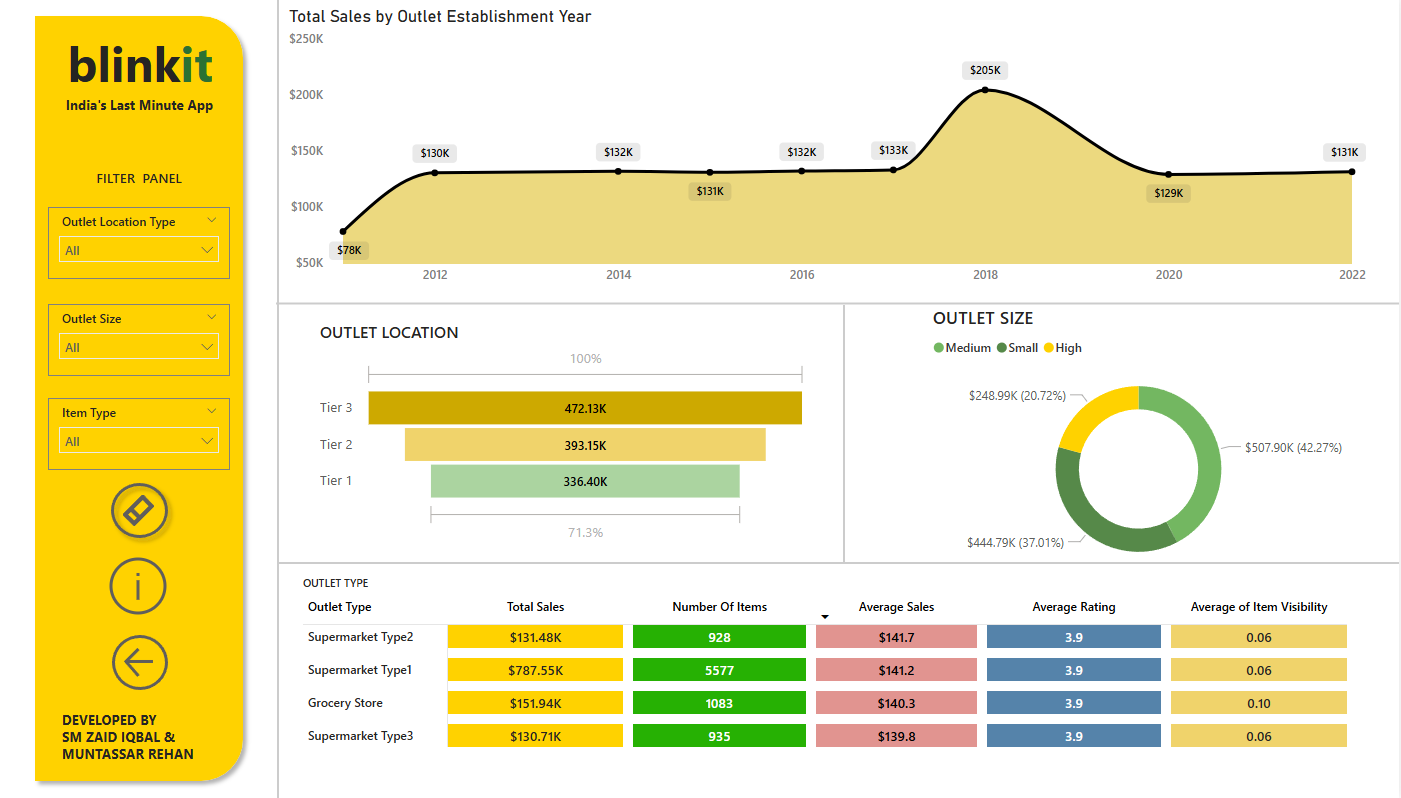

This screenshot's page, from the dashboard's own definition file:
{"tool":"powerbi","page":{"name":"Blinkit Outlet","canvas":[1400,800],"ordinal":1},"visuals":[{"type":"lineChart","fields":{"Category":["BlinkIT Grocery Data.Outlet Establishment Year"],"Y":["BlinkIT Grocery Data.Total Sales"]},"box":[285,8,1087,287],"z":0},{"type":"shape","box":[27,9,226,783],"z":1000},{"type":"textbox","box":[2,27,278,85],"z":2000},{"type":"textbox","box":[40,93,201,37],"z":3000},{"type":"donutChart","title":"OUTLET SIZE","fields":{"Y":["BlinkIT Grocery Data.Total Sales"],"Category":["BlinkIT Grocery Data.Outlet Size"]},"box":[929,307,421,277],"z":4000},{"type":"funnel","title":"OUTLET LOCATION","fields":{"Y":["Sum(BlinkIT Grocery Data.Sales)"],"Category":["BlinkIT Grocery Data.Outlet Location Type"]},"box":[316,323,497,226],"z":5000},{"type":"pivotTable","title":"OUTLET TYPE","fields":{"Rows":["BlinkIT Grocery Data.Outlet Type"],"Values":["BlinkIT Grocery Data.Total Sales","BlinkIT Grocery Data.Number Of Items","BlinkIT Grocery Data.Average Sales","BlinkIT Grocery Data.Average Rating","Avg(BlinkIT Grocery Data.Item Visibility)"]},"box":[299,577,1059,214],"z":6000},{"type":"shape","box":[277,295,1123,21],"z":7000},{"type":"shape","box":[839,307,12,258],"z":8000},{"type":"shape","box":[280,559,1120,12],"z":9000},{"type":"shape","box":[273,2,12,798],"z":10000},{"type":"slicer","fields":{"Values":["BlinkIT Grocery Data.Outlet Location Type"]},"box":[49,209,182,72],"z":11000},{"type":"slicer","fields":{"Values":["BlinkIT Grocery Data.Outlet Size"]},"box":[49,306,182,72],"z":12000},{"type":"slicer","fields":{"Values":["BlinkIT Grocery Data.Item Type"]},"box":[49,400,182,72],"z":13000},{"type":"actionButton","box":[103,476,75,73],"z":14000},{"type":"textbox","box":[76,166,128,28],"z":15000},{"type":"actionButton","box":[113,637,56,55],"z":16000},{"type":"textbox","box":[58,708,165,66],"z":17000},{"type":"actionButton","box":[103,549,72,77],"z":18000}]}

Visuals, with their boxes in screenshot pixels (x1, y1, x2, y2), scaled from the page's 1400x800 canvas onto the 1401x798 screenshot:
lineChart - BlinkIT Grocery Data.Outlet Establishment Year x BlinkIT Grocery Data.Total Sales: bbox=[285, 8, 1373, 294]
shape: bbox=[27, 9, 253, 790]
textbox: bbox=[2, 27, 280, 112]
textbox: bbox=[40, 93, 241, 130]
"OUTLET SIZE" donutChart: bbox=[930, 306, 1351, 583]
"OUTLET LOCATION" funnel: bbox=[316, 322, 814, 548]
"OUTLET TYPE" pivotTable: bbox=[299, 576, 1359, 789]
shape: bbox=[277, 294, 1400, 315]
shape: bbox=[840, 306, 852, 564]
shape: bbox=[280, 558, 1400, 570]
shape: bbox=[273, 2, 285, 797]
slicer - BlinkIT Grocery Data.Outlet Location Type: bbox=[49, 208, 231, 280]
slicer - BlinkIT Grocery Data.Outlet Size: bbox=[49, 305, 231, 377]
slicer - BlinkIT Grocery Data.Item Type: bbox=[49, 399, 231, 471]
actionButton: bbox=[103, 475, 178, 548]
textbox: bbox=[76, 166, 204, 194]
actionButton: bbox=[113, 635, 169, 690]
textbox: bbox=[58, 706, 223, 772]
actionButton: bbox=[103, 548, 175, 624]
